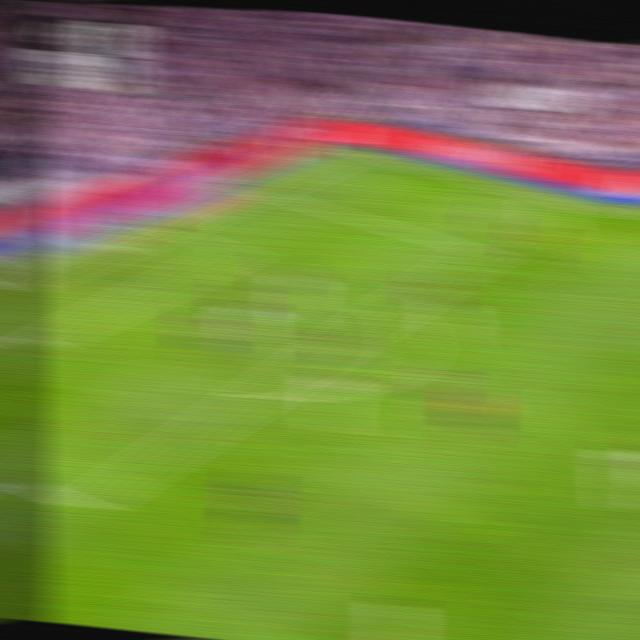bigarea_bottom_inner: (65, 488, 103, 522)
bigarea_top_inner: (466, 241, 501, 262)
bigarea_top_outter: (243, 180, 276, 198)
bottom_arc_area_intersection: (239, 382, 277, 407)
corner: (335, 142, 371, 159)
smallarea_bottom_inner: (19, 330, 55, 356)
smallarea_top_inner: (221, 239, 254, 262)
top_arc_area_intersection: (375, 297, 410, 319)
